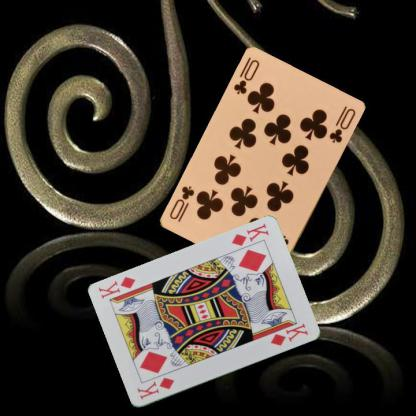10c: (231, 57, 261, 97)
Kd: (229, 221, 270, 248), (134, 375, 175, 401)
